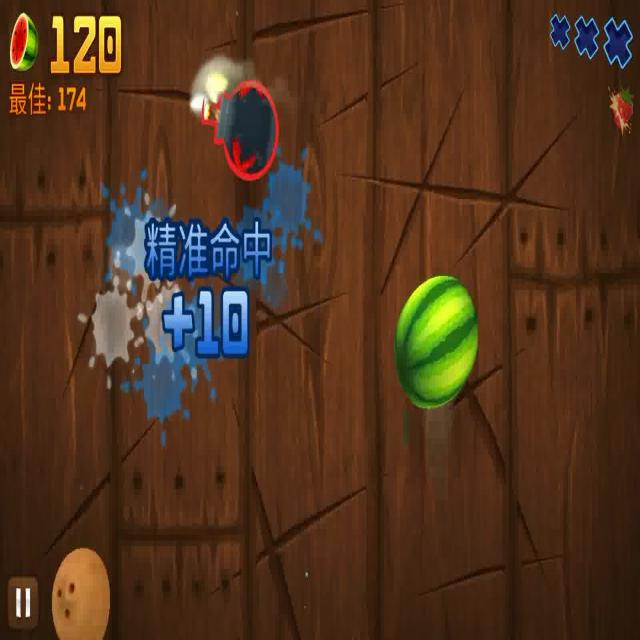bomb: (179, 51, 282, 186)
fruit: (393, 274, 480, 413), (49, 544, 112, 640)
